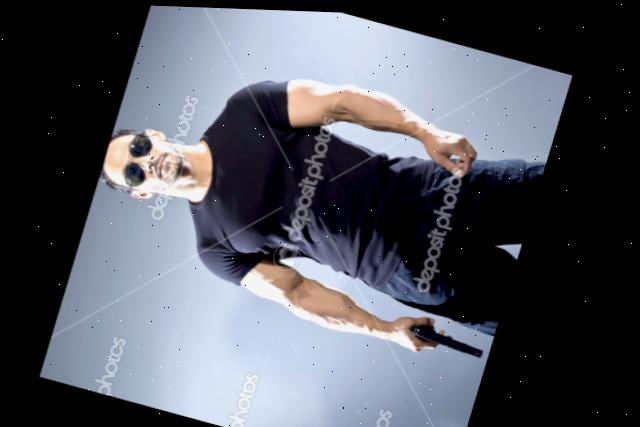pistol: (388, 302, 500, 372)
